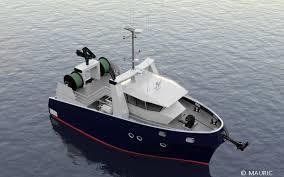Ship: (50, 29, 227, 165)
